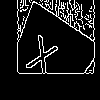X: (25, 25, 62, 82)
